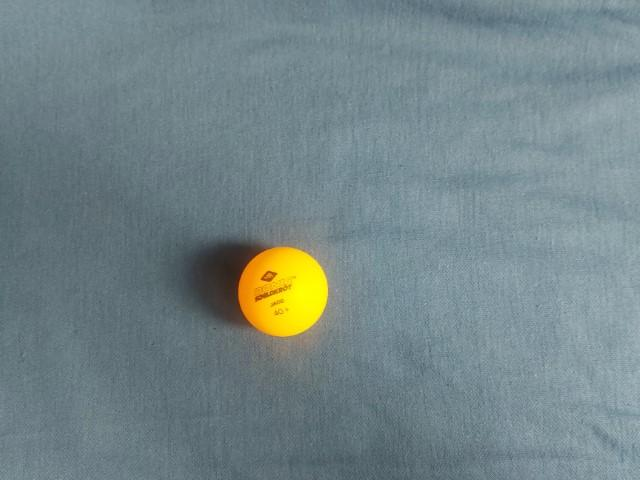oball: (305, 137, 407, 242)
